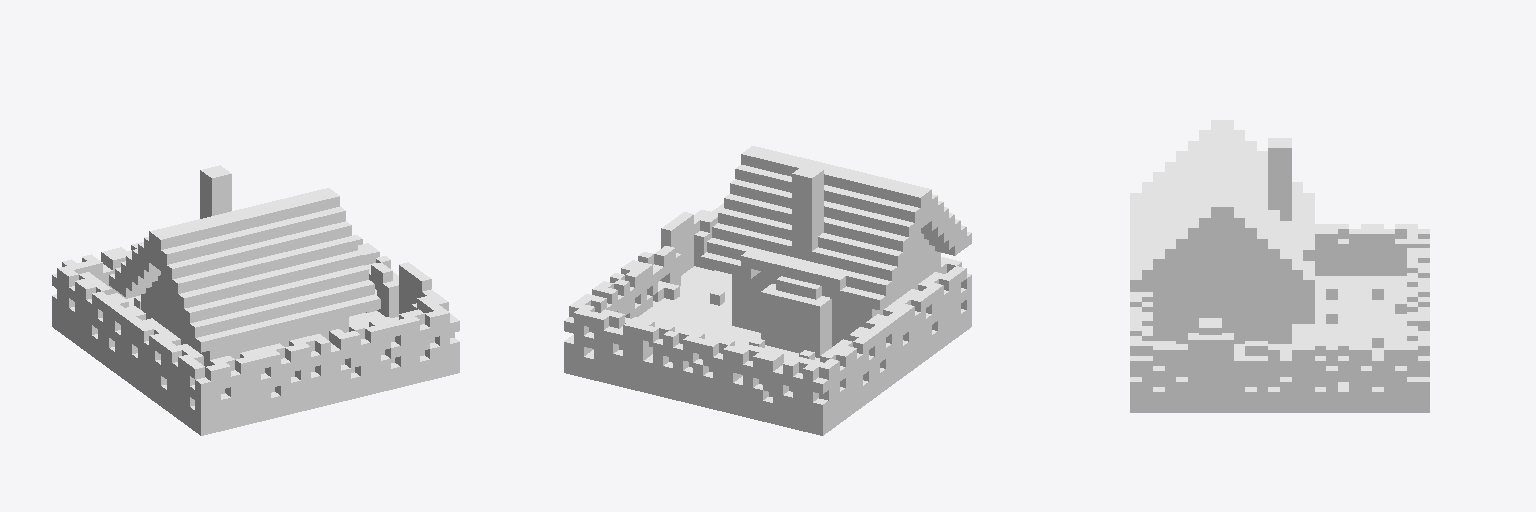
The model's file is house1.5.obj.
3 renders of one model, left to right at view 1: azimuth 30°, elevation 25°; view 2: azimuth 150°, elevation 25°; view 3: azimuth 270°, elevation 25°, orthographic.
Parts seen in each view (by area): view 1: object 1; view 2: object 1; view 3: object 1.
Boxes of the visible parts, x1=… form: object 1: x1=52, y1=165, x2=459, y2=435; object 1: x1=564, y1=146, x2=971, y2=435; object 1: x1=1130, y1=120, x2=1429, y2=412.
Size of the model in its own units: 2.6 by 1.8 by 2.6.